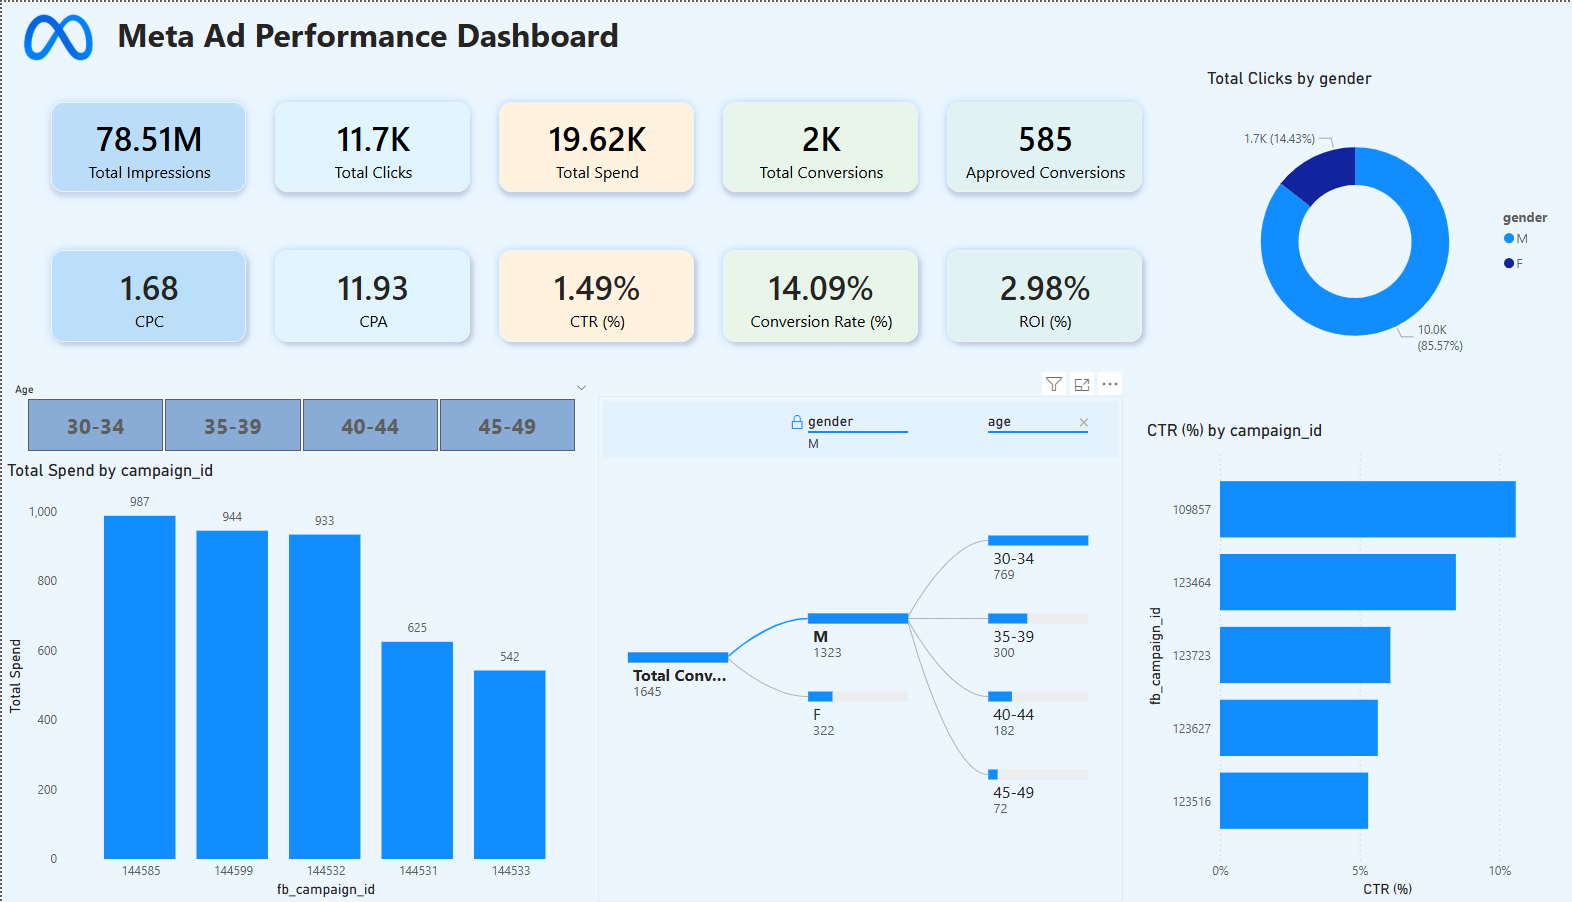

This screenshot's page, from the dashboard's own definition file:
{"tool":"powerbi","page":{"name":"Page 1","canvas":[1570,900],"ordinal":0},"visuals":[{"type":"textbox","box":[94.2,5.3,543.8,60.3],"z":0},{"type":"image","box":[0,0,113.2,70.9],"z":1000},{"type":"cardVisual","fields":{"Data":["Ads.Total Impressions","Ads.Total Clicks","Ads.Total Spend","Ads.Total Conversions","Ads.Approved Conversions"]},"box":[0,70.9,1191.3,148.1],"z":2000},{"type":"donutChart","fields":{"Category":["Ads.gender"],"Y":["Ads.Total Clicks"]},"box":[1172.9,71.1,378.7,305.2],"z":3000},{"type":"cardVisual","fields":{"Data":["Ads.CPC","Ads.CPA","Ads.CTR (%)","Ads.Conversion Rate (%)","Ads.ROI (%)"]},"box":[0,219,1191.3,150.2],"z":4000},{"type":"clusteredColumnChart","title":"Total Spend by campaign_id","fields":{"Y":["Ads.Total Spend"],"Category":["Ads.fb_campaign_id"]},"box":[0,457.5,587.5,442.5],"z":5000},{"type":"barChart","title":"CTR (%) by campaign_id","fields":{"Category":["Ads.fb_campaign_id"],"Y":["Ads.CTR (%)"]},"box":[1140,417.5,430,482.5],"z":6000},{"type":"slicer","fields":{"Values":["Ads.age"]},"box":[0,376.2,596.2,81.2],"z":7000},{"type":"decompositionTreeVisual","fields":{"Analyze":["Ads.Total Conversions"],"ExplainBy":["Ads.gender","Ads.age"]},"box":[596.2,393.8,525,506.2],"z":8000}]}

Visuals, with their boxes in screenshot pixels (x1, y1, x2, y2), scaled from the page's 1570x900 canvas onto the 1572x902 screenshot:
textbox: left=94, top=5, right=639, bottom=66
image: left=0, top=0, right=113, bottom=71
cardVisual - Ads.Total Impressions x Ads.Total Clicks: left=0, top=71, right=1193, bottom=219
donutChart - Ads.gender x Ads.Total Clicks: left=1174, top=71, right=1554, bottom=377
cardVisual - Ads.CPC x Ads.CPA: left=0, top=219, right=1193, bottom=370
"Total Spend by campaign_id" clusteredColumnChart: left=0, top=459, right=588, bottom=901
"CTR (%) by campaign_id" barChart: left=1141, top=418, right=1571, bottom=901
slicer - Ads.age: left=0, top=377, right=597, bottom=458
decompositionTreeVisual - Ads.Total Conversions x Ads.gender: left=597, top=395, right=1123, bottom=901
